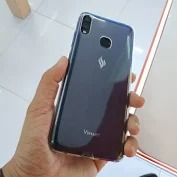vsmart: (48, 11, 135, 165)
